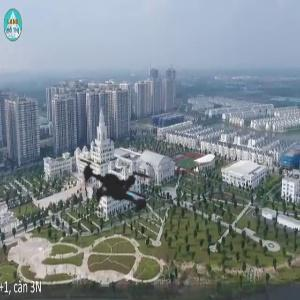drone: (45, 124, 186, 265)
